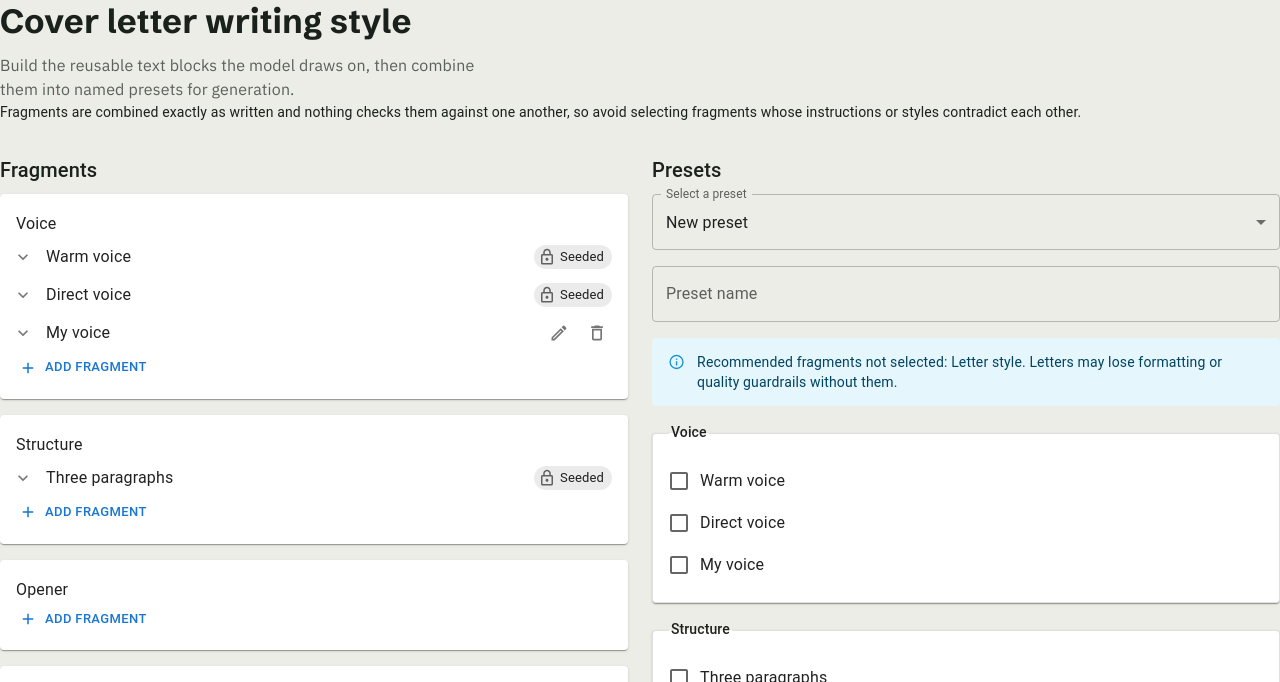
Scenario: WritingStylePage › warns when a preset omits recommended fragments
Expected: the 1st text "Warm voice" is shown, [46, 247, 131, 266]
In the field labelled "Preset name": (966, 294) [652, 266, 1279, 322], type "Test preset"
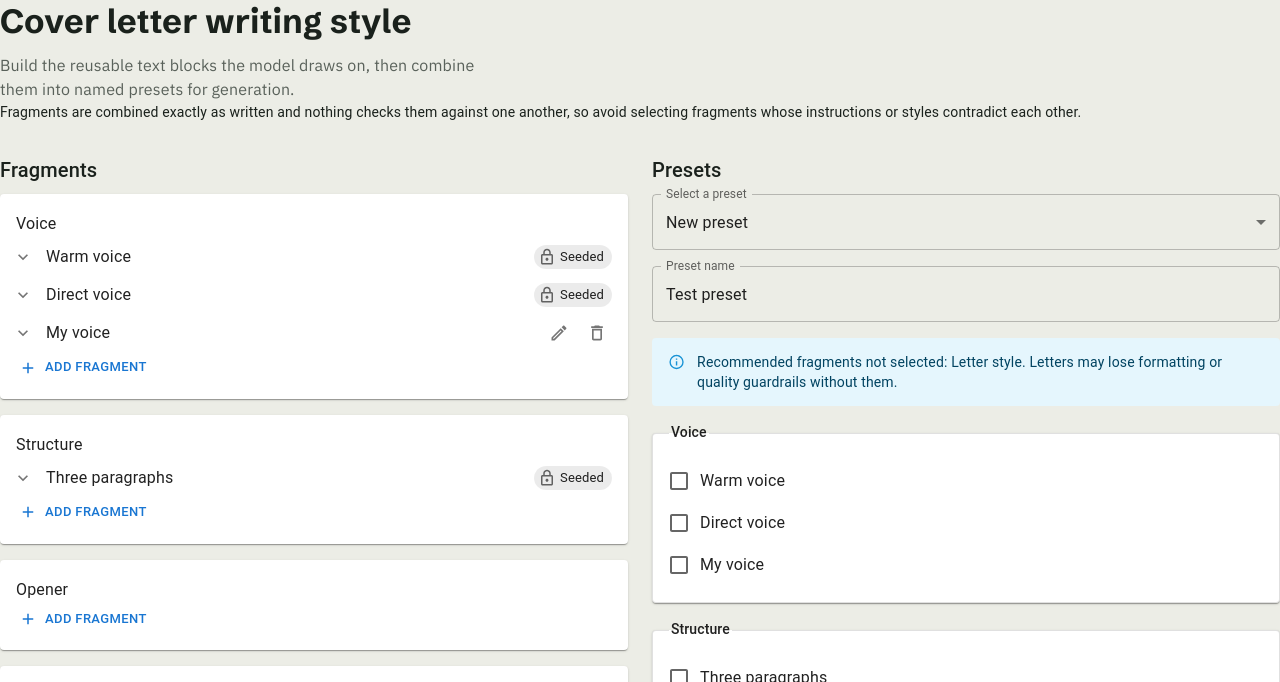
# Select only "Warm voice" (rules-1 is recommended but not selected)
Click the checkbox labelled "Warm voice": (726, 481) [667, 469, 785, 493]
(page scrolled)
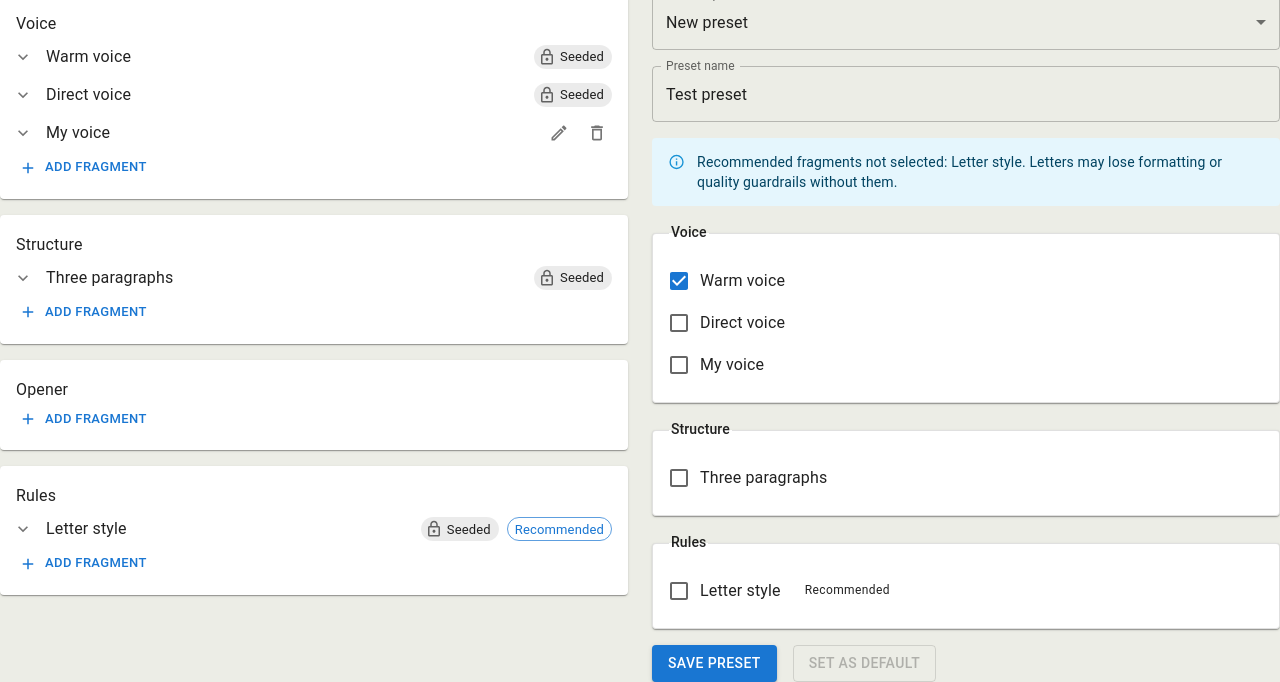
Expected: the message shows "Recommended fragments not selected", [697, 154, 951, 170]
Expected: the button "Save preset" is enabled, [652, 645, 777, 681]
# Select the recommended fragment
Click the checkbox labelled "Letter style": (724, 591) [667, 579, 781, 603]
(page scrolled)
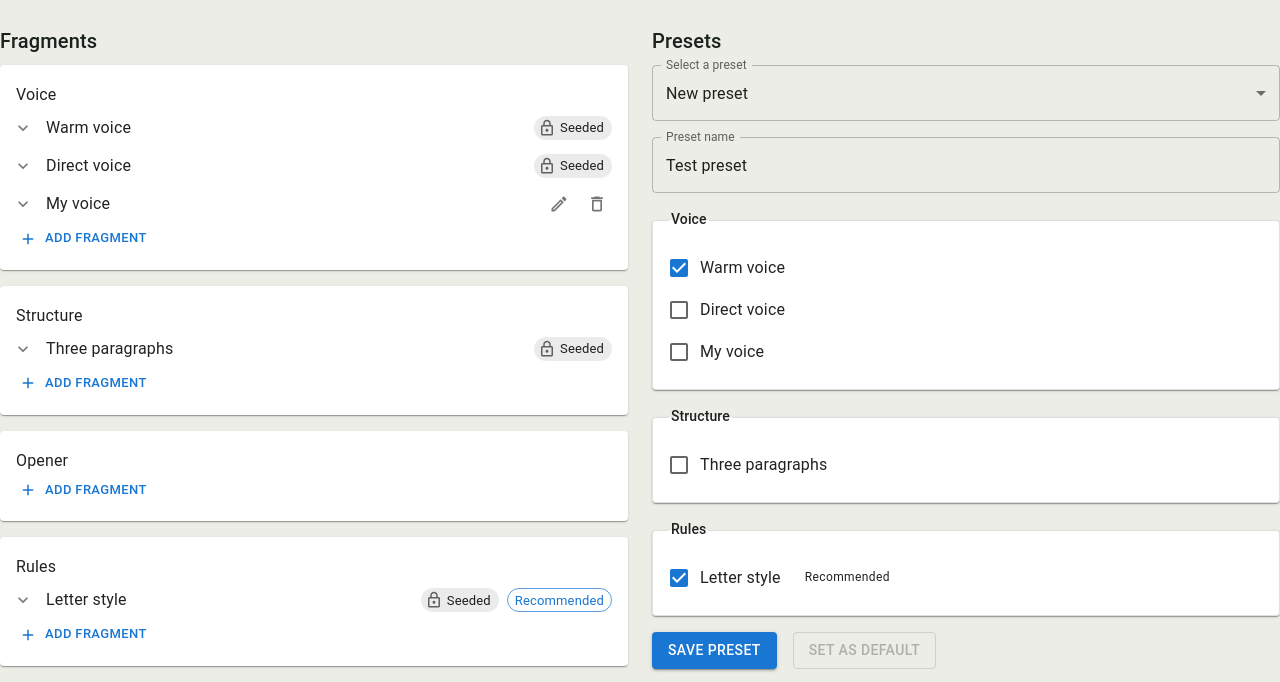
Expected: the text "Recommended fragments not selected" is gone
